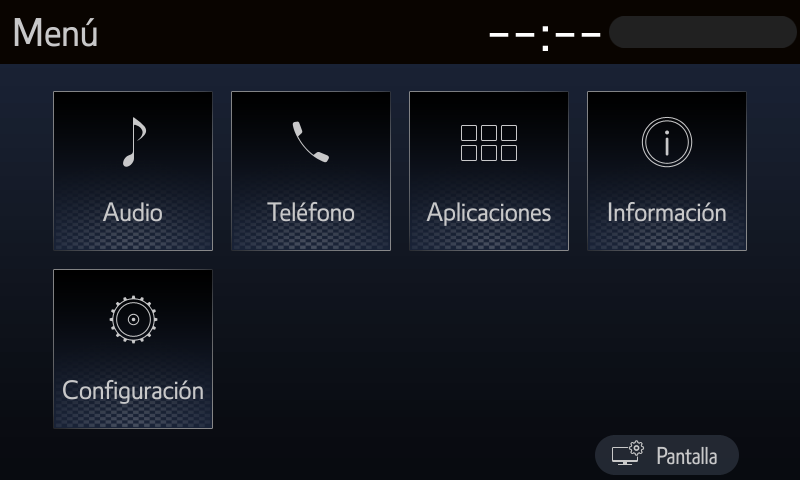touchPart: (226, 87, 395, 257), (408, 86, 574, 257), (49, 266, 216, 434), (583, 89, 752, 255), (50, 89, 217, 256), (593, 430, 739, 480)
untouchPart: (473, 12, 796, 54), (12, 10, 108, 53)
